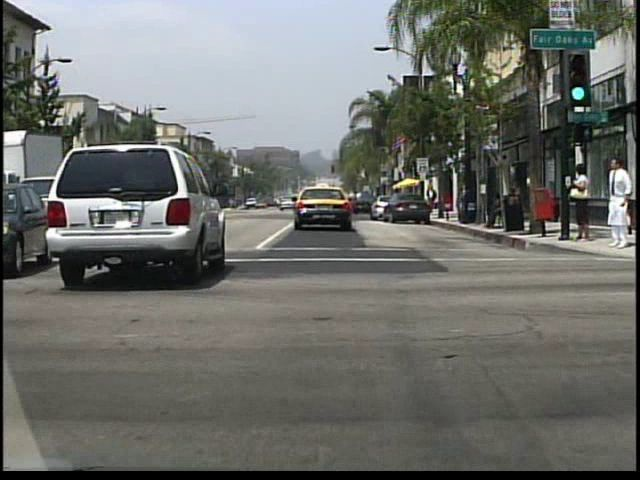person: (605, 160, 630, 250), (566, 162, 591, 242), (613, 169, 633, 235), (480, 190, 508, 231), (504, 179, 517, 227), (426, 185, 436, 206)
